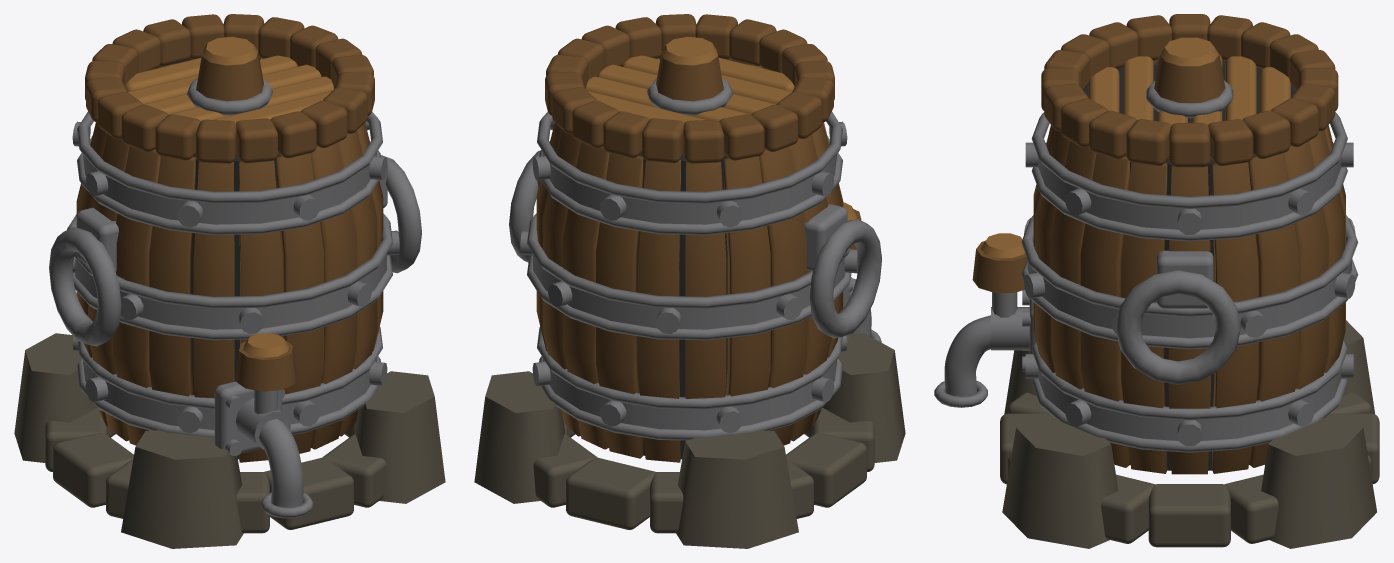
File: barrel.glb
3 views of the same model, side by side, from view 1: azimuth 30°, elevation 25°; view 2: azimuth 150°, elevation 25°; view 3: azimuth 270°, elevation 25° (orthographic). The views are drawn at different scales.
Visible parts, largest first — view 1: barrel-farm-wood-shadow, barrel-farm-metal, barrel-farm-stone-dark, barrel-farm-wood-dark, barrel-farm-window; view 2: barrel-farm-wood-shadow, barrel-farm-metal, barrel-farm-stone-dark, barrel-farm-wood-dark, barrel-farm-window; view 3: barrel-farm-wood-shadow, barrel-farm-metal, barrel-farm-stone-dark, barrel-farm-wood-dark, barrel-farm-window.
Part boxes in pixels (x1,y1,x2,y2): barrel-farm-wood-shadow: (76,14,383,462); barrel-farm-metal: (49,78,421,518); barrel-farm-stone-dark: (14,333,445,548); barrel-farm-wood-dark: (125,36,333,357); barrel-farm-window: (157,58,281,459); barrel-farm-wood-shadow: (536,14,861,462); barrel-farm-metal: (509,78,881,440); barrel-farm-stone-dark: (474,333,905,548); barrel-farm-wood-dark: (586,36,856,220); barrel-farm-window: (638,58,765,459); barrel-farm-wood-shadow: (972,14,1345,474); barrel-farm-metal: (934,80,1358,452); barrel-farm-stone-dark: (1000,320,1379,548); barrel-farm-wood-dark: (981,37,1290,257); barrel-farm-window: (1083,60,1296,470).
Bounding box in the file's own units: 1.67 × 2.04 × 1.95.
